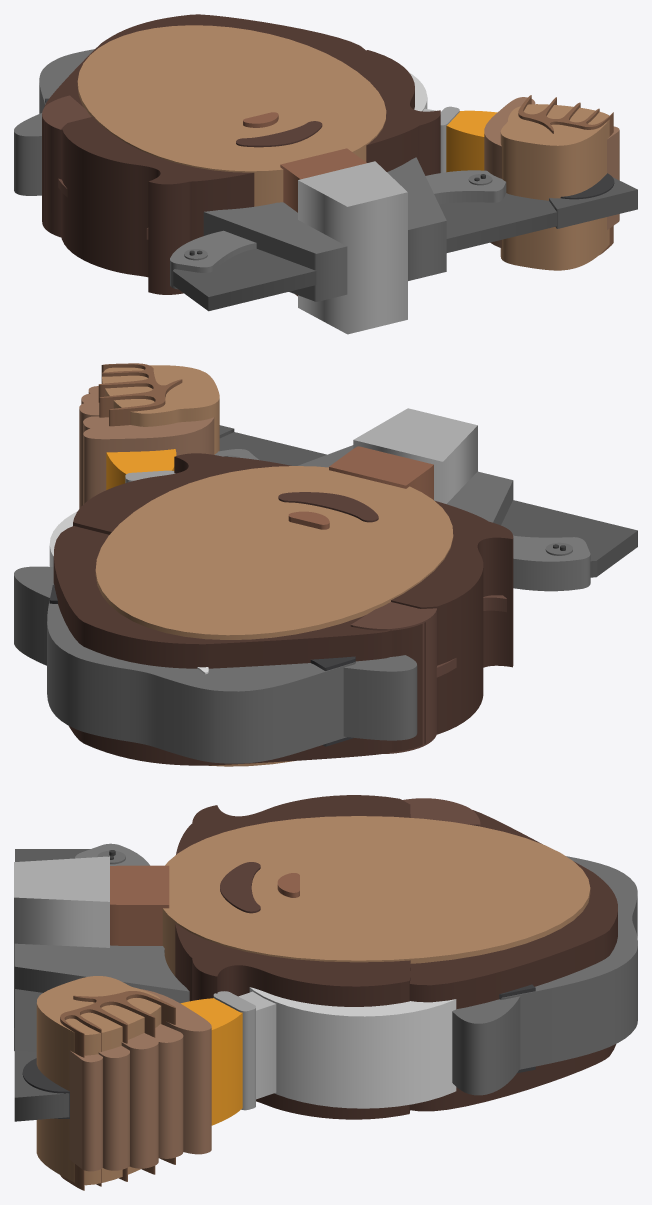
The model's file is emoji_u1f575_1f3fd.glb.
3 views of the same model, one above another, from view 1: azimuth 30°, elevation 25°; view 2: azimuth 150°, elevation 25°; view 3: azimuth 270°, elevation 25° (orthographic). The views are drawn at different scales.
Visible parts, largest first — view 1: emoji_u1f575_1f3fd; view 2: emoji_u1f575_1f3fd; view 3: emoji_u1f575_1f3fd.
Boxes of the visible parts, x1=… form: emoji_u1f575_1f3fd: x1=14, y1=14, x2=637, y2=334; emoji_u1f575_1f3fd: x1=14, y1=363, x2=637, y2=766; emoji_u1f575_1f3fd: x1=14, y1=795, x2=637, y2=1190.
Bounding box in the file's own units: 0.0326 × 0.0092 × 0.0331.
